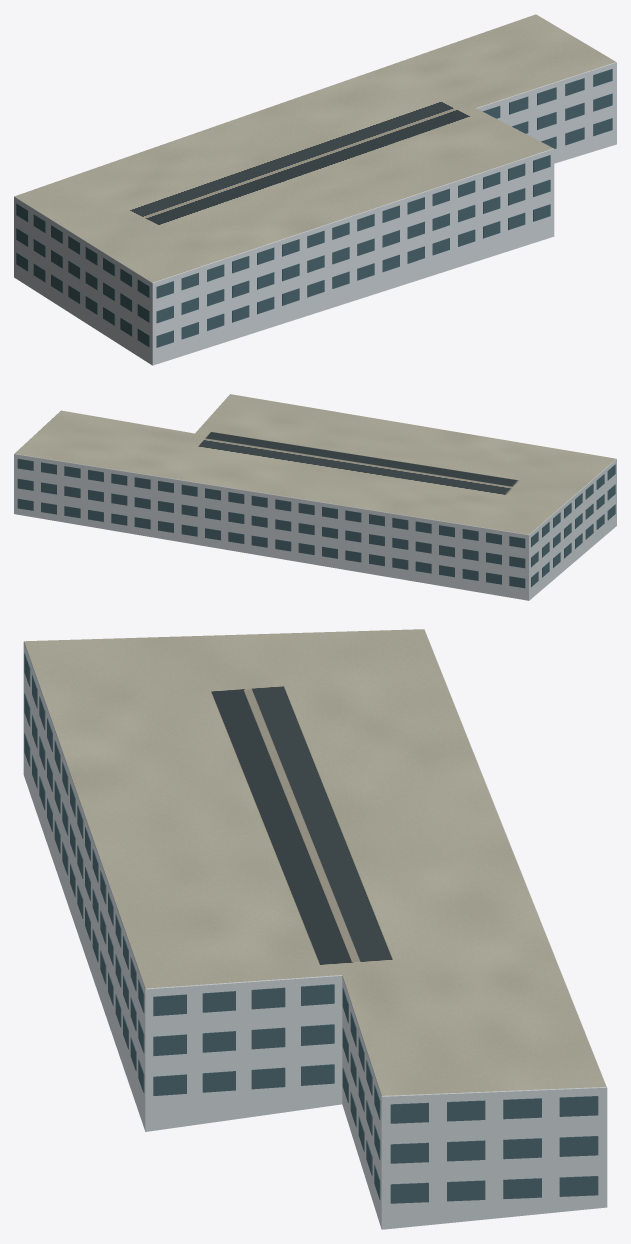
File: fragments.glb
The picture shows the model from 3 angles, top to bottom: view 1: azimuth 30°, elevation 25°; view 2: azimuth 150°, elevation 25°; view 3: azimuth 270°, elevation 25°; orthographic projection. The views are drawn at different scales.
Parts seen in each view (by area): view 1: SM_osm-972016220_Fragment_018, SM_osm-972016220_Fragment_044, SM_osm-972016220_Fragment_004, SM_osm-972016220_Fragment_006, SM_osm-972016220_Fragment_013, SM_osm-972016220_Fragment_036, SM_osm-972016220_Fragment_057, SM_osm-972016220_Fragment_008, SM_osm-972016220_Fragment_046, SM_osm-972016220_Fragment_031, SM_osm-972016220_Fragment_030, SM_osm-972016220_Fragment_029 (+31 smaller); view 2: SM_osm-972016220_Fragment_026, SM_osm-972016220_Fragment_005, SM_osm-972016220_Fragment_039, SM_osm-972016220_Fragment_047, SM_osm-972016220_Fragment_038, SM_osm-972016220_Fragment_008, SM_osm-972016220_Fragment_061, SM_osm-972016220_Fragment_001, SM_osm-972016220_Fragment_011, SM_osm-972016220_Fragment_046, SM_osm-972016220_Fragment_035, SM_osm-972016220_Fragment_007 (+33 smaller); view 3: SM_osm-972016220_Fragment_003, SM_osm-972016220_Fragment_001, SM_osm-972016220_Fragment_018, SM_osm-972016220_Fragment_053, SM_osm-972016220_Fragment_062, SM_osm-972016220_Fragment_030, SM_osm-972016220_Fragment_029, SM_osm-972016220_Fragment_021, SM_osm-972016220_Fragment_031, SM_osm-972016220_Fragment_055, SM_osm-972016220_Fragment_010, SM_osm-972016220_Fragment_008 (+28 smaller).
Boxes of the visible parts, box(x1,y1,x2,y2) form: SM_osm-972016220_Fragment_018: box(473, 140, 554, 253); SM_osm-972016220_Fragment_044: box(115, 265, 200, 365); SM_osm-972016220_Fragment_004: box(237, 227, 324, 322); SM_osm-972016220_Fragment_006: box(412, 168, 500, 281); SM_osm-972016220_Fragment_013: box(336, 189, 413, 292); SM_osm-972016220_Fragment_036: box(186, 235, 249, 346); SM_osm-972016220_Fragment_057: box(373, 167, 462, 272); SM_osm-972016220_Fragment_008: box(93, 227, 194, 300); SM_osm-972016220_Fragment_046: box(33, 205, 106, 290); SM_osm-972016220_Fragment_031: box(258, 184, 349, 258); SM_osm-972016220_Fragment_030: box(421, 72, 528, 126); SM_osm-972016220_Fragment_029: box(281, 154, 394, 196); SM_osm-972016220_Fragment_026: box(57, 455, 158, 513); SM_osm-972016220_Fragment_005: box(142, 460, 226, 526); SM_osm-972016220_Fragment_039: box(322, 492, 394, 567); SM_osm-972016220_Fragment_047: box(390, 500, 463, 564); SM_osm-972016220_Fragment_038: box(462, 509, 542, 568); SM_osm-972016220_Fragment_008: box(515, 456, 604, 522); SM_osm-972016220_Fragment_061: box(222, 468, 284, 531); SM_osm-972016220_Fragment_001: box(14, 426, 73, 483); SM_osm-972016220_Fragment_011: box(264, 478, 339, 524); SM_osm-972016220_Fragment_046: box(512, 490, 582, 547); SM_osm-972016220_Fragment_035: box(248, 512, 314, 562); SM_osm-972016220_Fragment_007: box(414, 544, 482, 592); SM_osm-972016220_Fragment_003: box(192, 981, 352, 1136); SM_osm-972016220_Fragment_001: box(457, 1046, 607, 1167); SM_osm-972016220_Fragment_018: box(123, 924, 209, 1131); SM_osm-972016220_Fragment_053: box(372, 1077, 485, 1219); SM_osm-972016220_Fragment_062: box(175, 936, 335, 1032); SM_osm-972016220_Fragment_030: box(304, 947, 493, 1062); SM_osm-972016220_Fragment_029: box(157, 797, 306, 878); SM_osm-972016220_Fragment_021: box(145, 876, 321, 941); SM_osm-972016220_Fragment_031: box(70, 762, 251, 853); SM_osm-972016220_Fragment_055: box(90, 700, 243, 771); SM_osm-972016220_Fragment_010: box(215, 710, 363, 793); SM_osm-972016220_Fragment_008: box(57, 636, 210, 704).
Size of the model in its own units: 2.2 by 0.3142 by 1.16.
5 materials, 1 textured.
